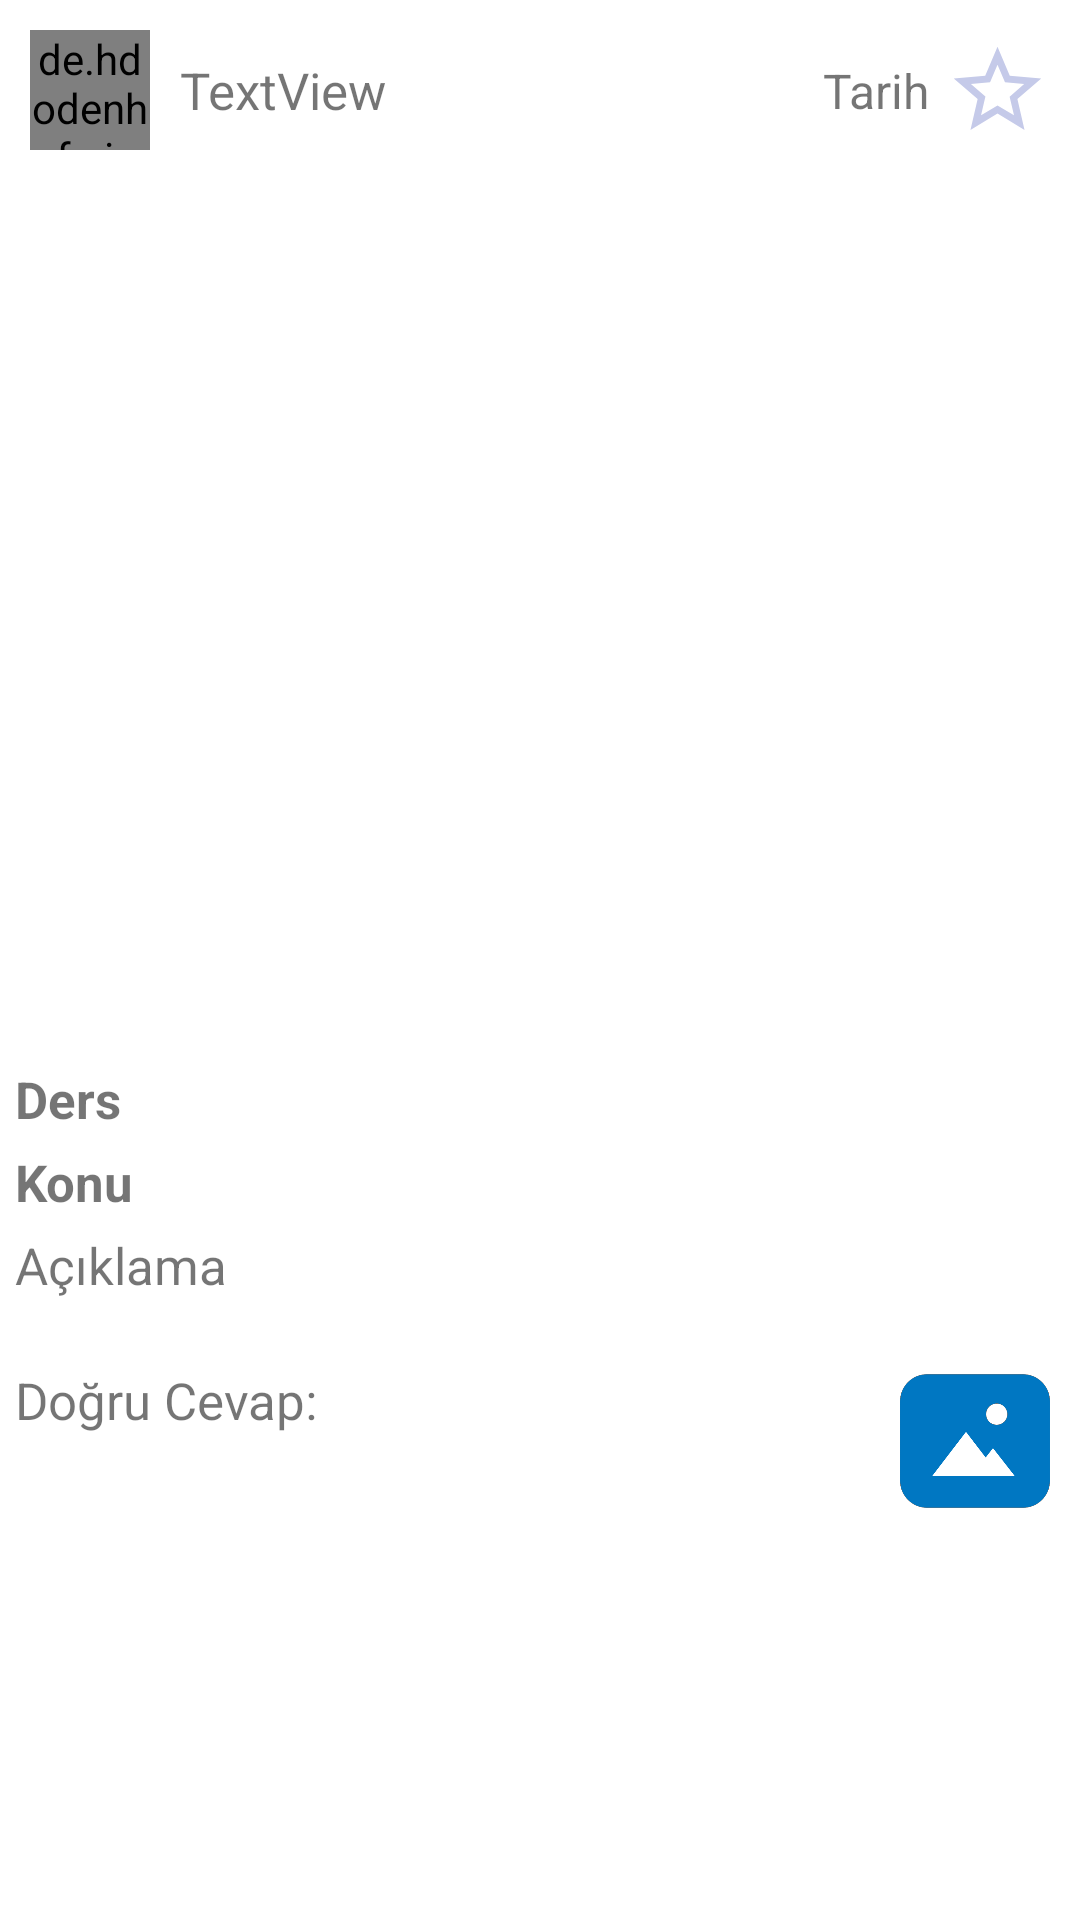

Icons on this 1080 × 1920 Android screen, each with the point to tap as (x,y):
fav: (997,88)
